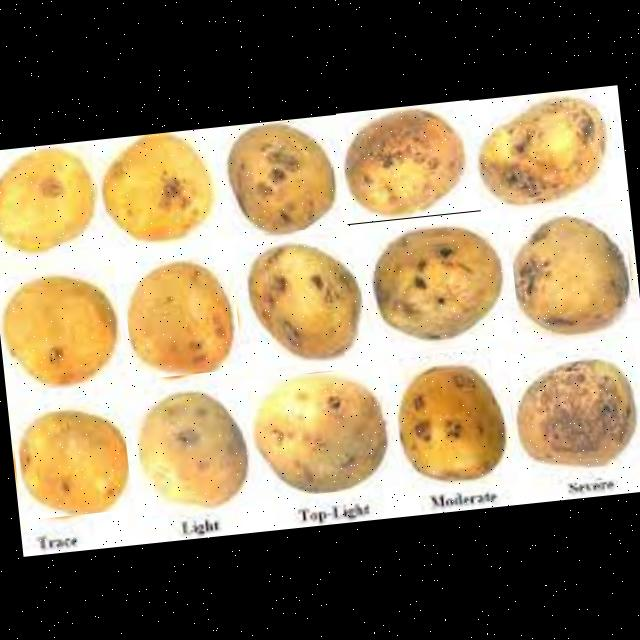Diseased-fungal potato: (246, 366, 400, 500), (364, 218, 512, 354), (234, 229, 376, 370), (122, 375, 259, 517), (391, 346, 518, 497), (509, 341, 640, 487), (507, 202, 636, 343), (336, 100, 480, 224), (473, 88, 612, 214), (94, 128, 222, 254), (213, 118, 344, 238), (121, 255, 242, 380)
Potato: (0, 264, 125, 390), (11, 404, 132, 520), (0, 143, 101, 258)
